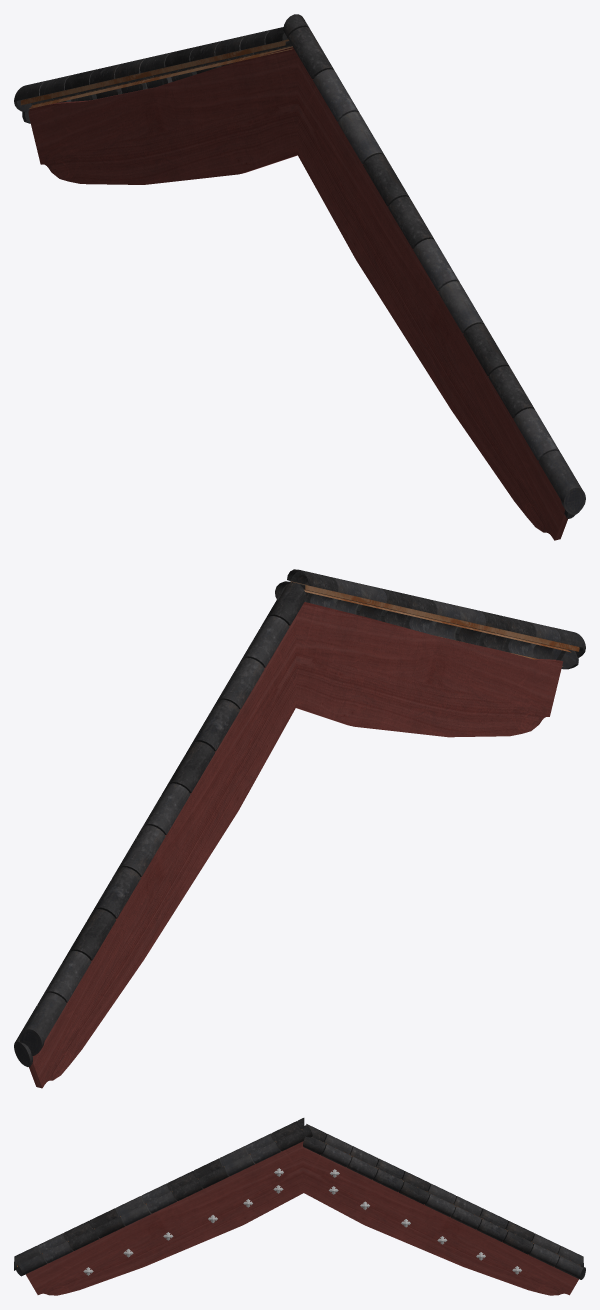
File: SM_Giwa05E_a3.fbx
3 renders of one model, top to bottom at view 1: azimuth 30°, elevation 25°; view 2: azimuth 150°, elevation 25°; view 3: azimuth 270°, elevation 25°, orthographic. The views are drawn at different scales.
Visible parts, largest first — view 1: SM_Giwa05E_a3; view 2: SM_Giwa05E_a3; view 3: SM_Giwa05E_a3.
Part boxes in pixels (bbox=[...]): SM_Giwa05E_a3: bbox=[14, 14, 585, 540]; SM_Giwa05E_a3: bbox=[14, 569, 585, 1088]; SM_Giwa05E_a3: bbox=[14, 1118, 585, 1295].
Size of the model in its own units: 20.07 by 598 by 202.
